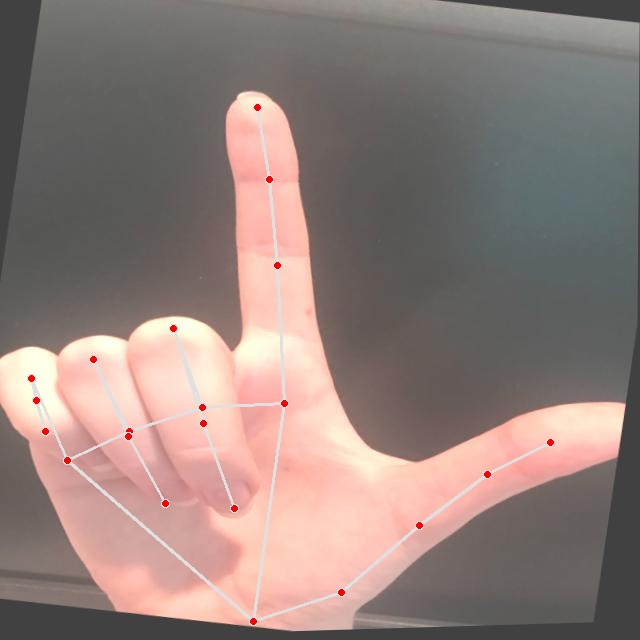L: (0, 41, 639, 639)
